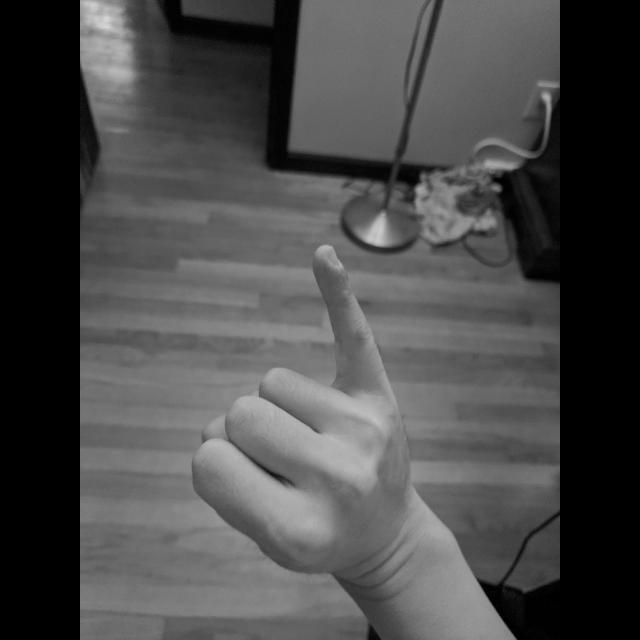I: (185, 240, 419, 582)
